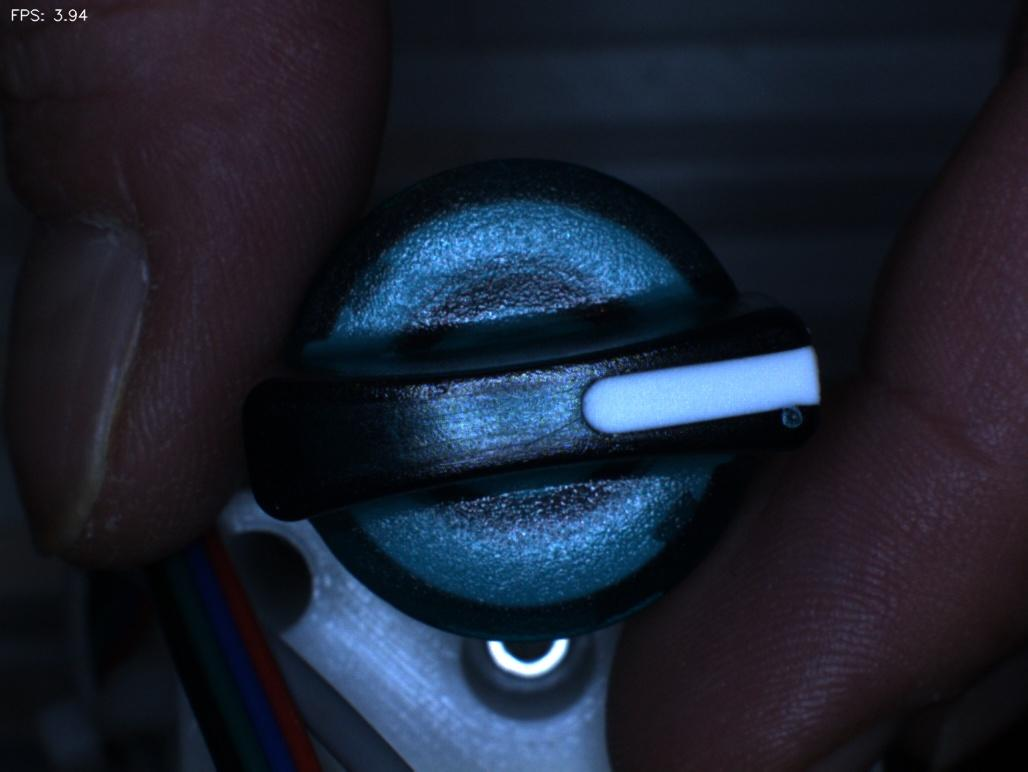Choc: (755, 387, 829, 461)
